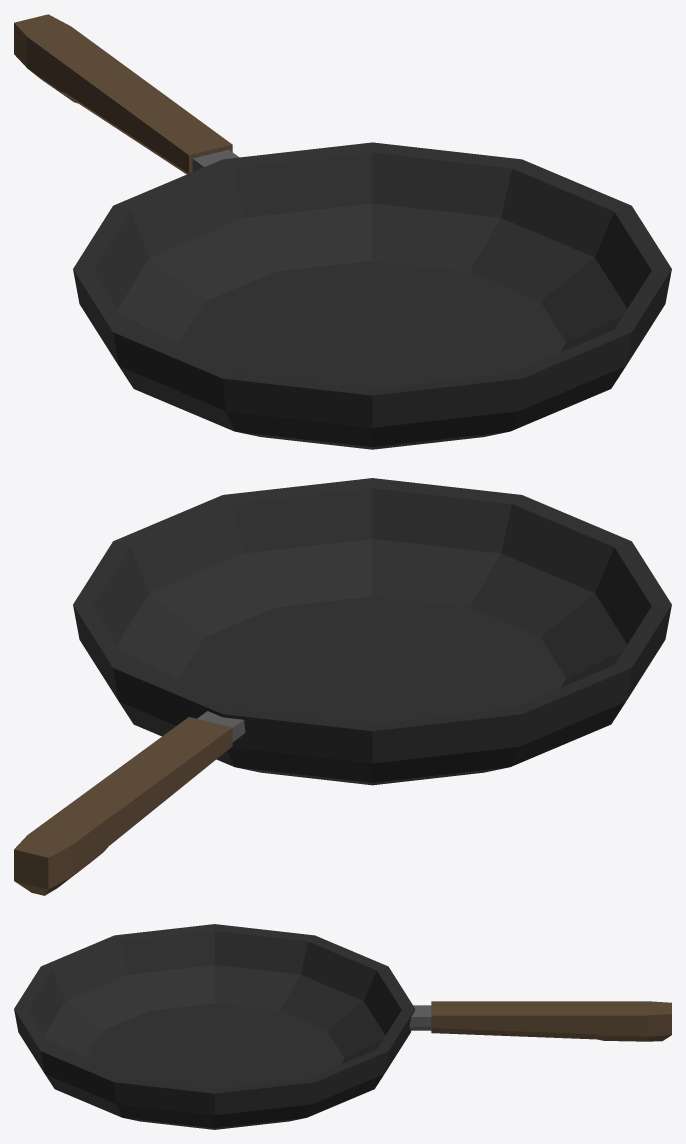
The model's file is pan.glb.
3 views of the same model, one above another, from view 1: azimuth 30°, elevation 25°; view 2: azimuth 150°, elevation 25°; view 3: azimuth 270°, elevation 25° (orthographic). The views are drawn at different scales.
Parts seen in each view (by area): view 1: Pan; view 2: Pan; view 3: Pan.
Part boxes in pixels (x1,y1,x2,y2): Pan: (14,14,671,449); Pan: (14,478,671,895); Pan: (14,924,671,1129).
Bounding box in the file's own units: 1.72 × 0.342 × 2.82.
